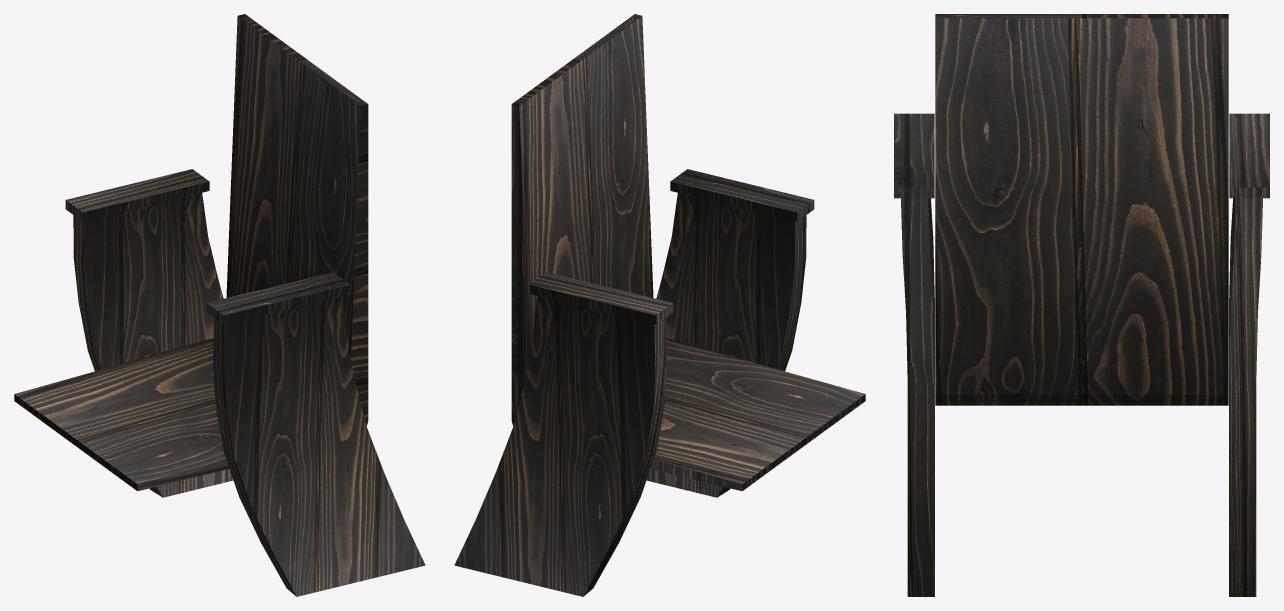
Rendered from Teatro_Asientos.fbx.
3 renders of one model, left to right at view 1: azimuth 30°, elevation 25°; view 2: azimuth 150°, elevation 25°; view 3: azimuth 270°, elevation 25°, orthographic. The views are drawn at different scales.
Parts seen in each view (by area): view 1: Asientos; view 2: Asientos; view 3: Asientos.
Boxes of the visible parts, x1=… form: Asientos: x1=14, y1=14, x2=425, y2=596; Asientos: x1=454, y1=14, x2=865, y2=596; Asientos: x1=894, y1=14, x2=1269, y2=596.
Bounding box in the file's own units: 159 × 255 × 157.
Materials: 1 (1 with a texture image).
